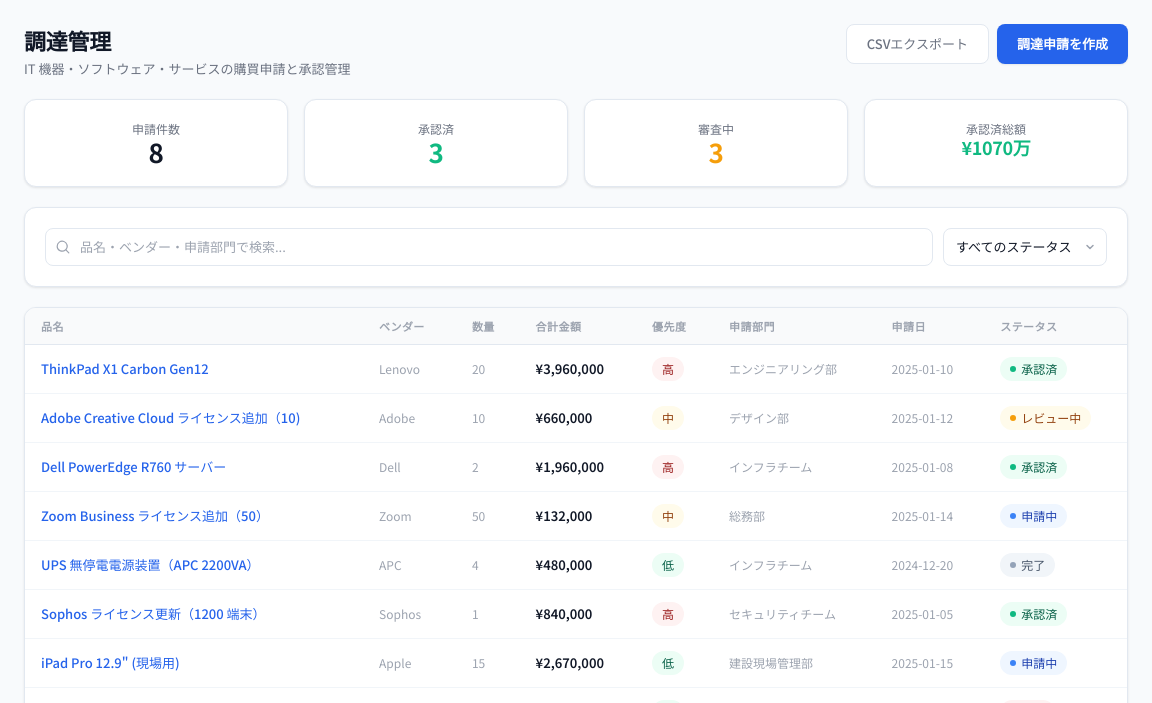
Procurement page - filters › searching for nonexistent item shows empty state
Expected: the heading "調達管理" is shown, top-left (24, 24), bottom-right (111, 56)
In the field with placeholder "品名・ベンダー・申請部門で検索...": coordinates (489, 247) top-left (45, 228), bottom-right (933, 266), type "xyznonexistent999"
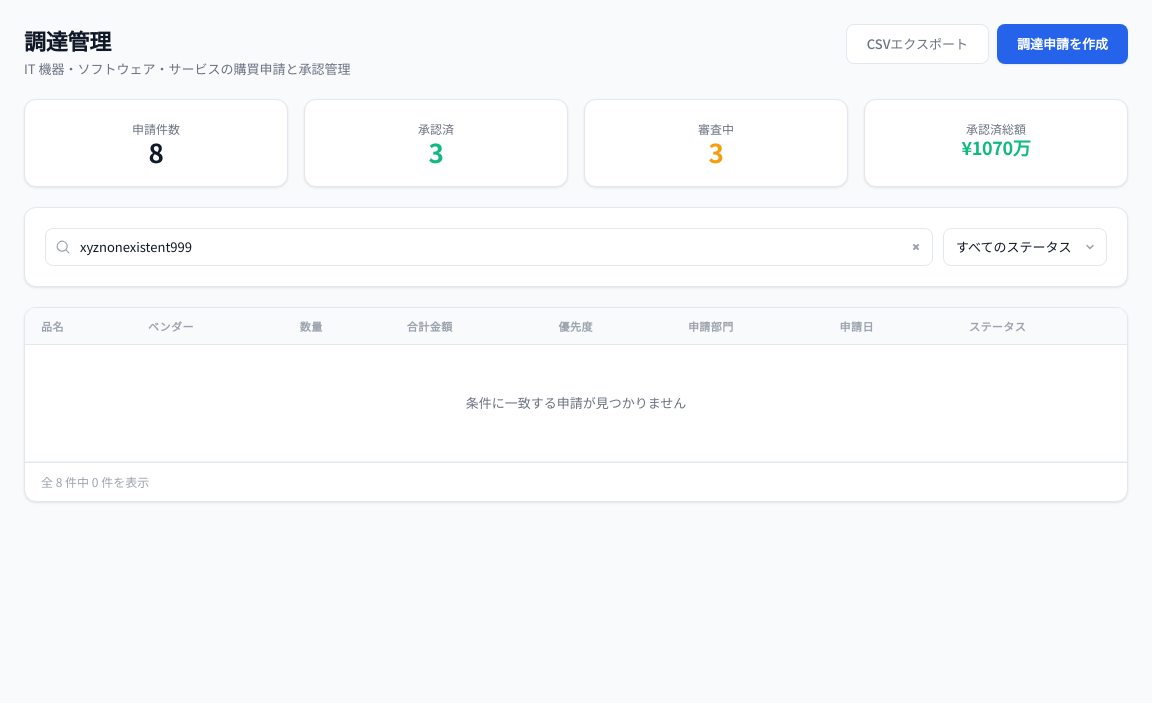
Expected: the text "条件に一致する申請が見つかりません" is shown, top-left (25, 345), bottom-right (1127, 461)
